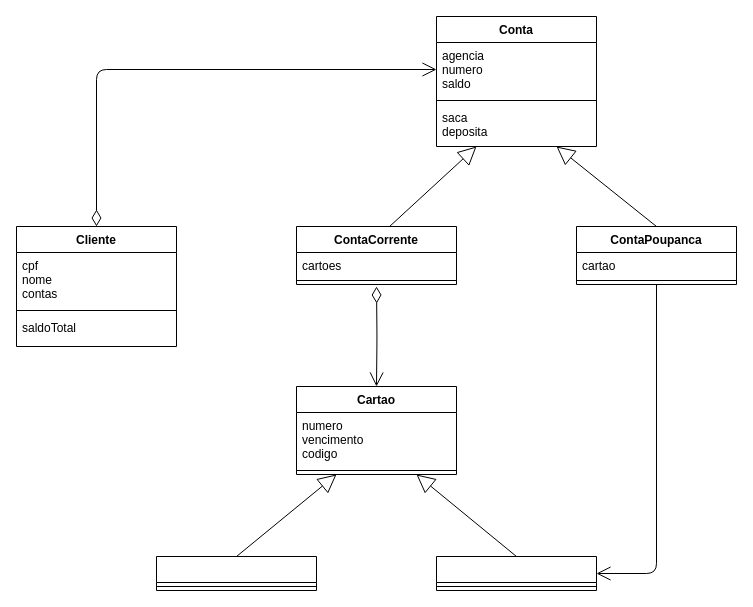
Some shapes in this 753 by 607 pixel diagram are drawn without their labels. The centre of each missing label's shape, as x and y in pixels:
"CartaoDeCredito" goes at [236,573].
"CartaoDeDebito" goes at [516,573].
